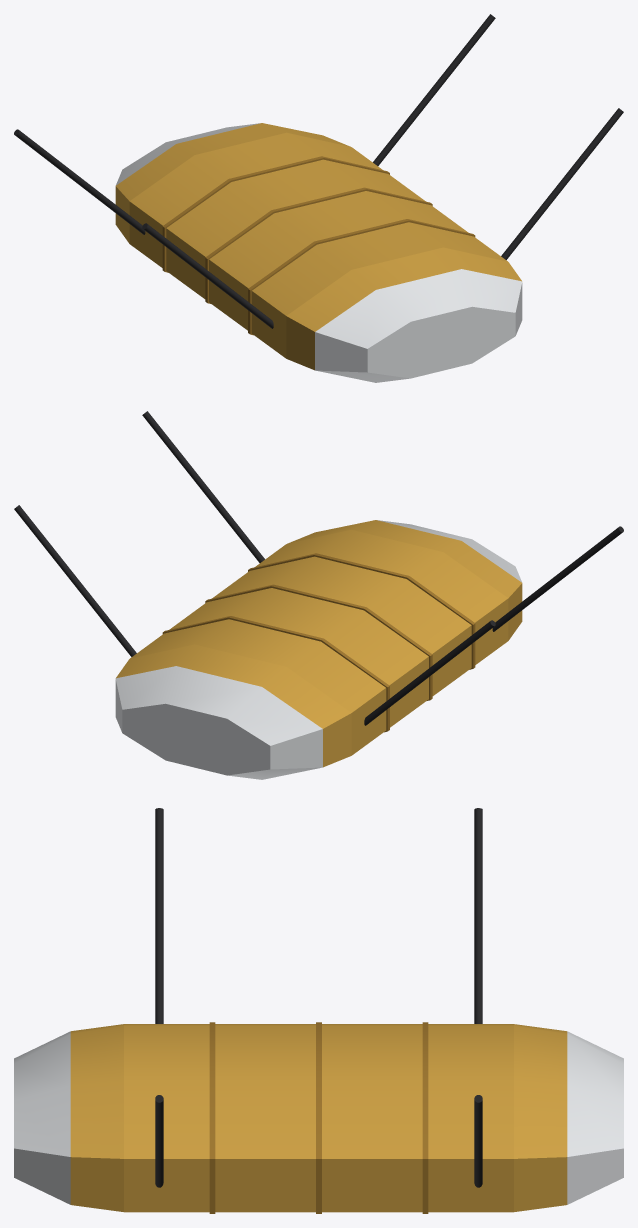
File: hr1_board.obj
3 renders of one model, top to bottom at view 1: azimuth 30°, elevation 25°; view 2: azimuth 150°, elevation 25°; view 3: azimuth 270°, elevation 25°, orthographic. The views are drawn at different scales.
Visible parts, largest first — view 1: hr1_board; view 2: hr1_board; view 3: hr1_board.
Boxes of the visible parts, box(x1,y1,x2,y2) form: hr1_board: box(14, 14, 623, 382); hr1_board: box(14, 411, 623, 779); hr1_board: box(14, 808, 623, 1213).
Bounding box in the file's own units: 1.95 × 0.7246 × 1.72.
